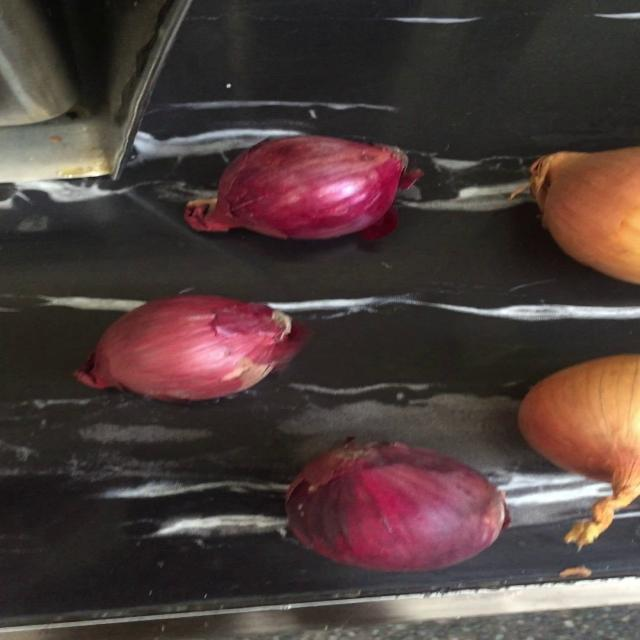Onion: (285, 438, 509, 573), (72, 295, 308, 402), (183, 135, 421, 239), (519, 355, 640, 550), (530, 147, 640, 284)
